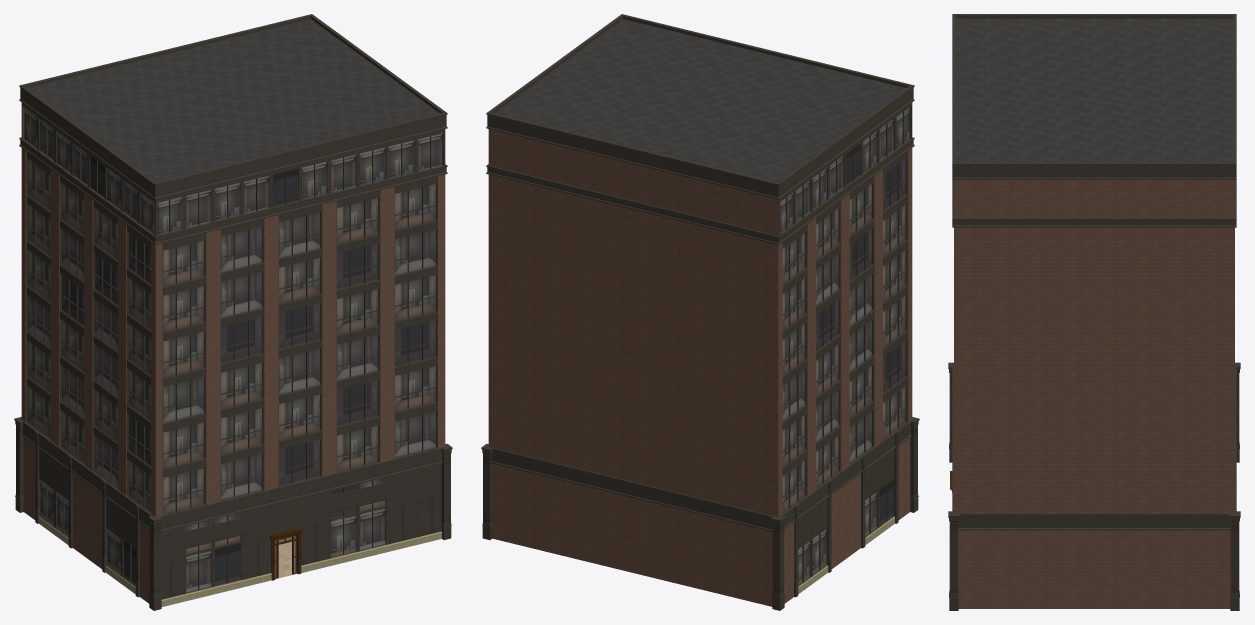
Rendered from Building_Large_2.glb.
3 renders of one model, left to right at view 1: azimuth 30°, elevation 25°; view 2: azimuth 150°, elevation 25°; view 3: azimuth 270°, elevation 25°, orthographic. The views are drawn at different scales.
Visible parts, largest first — view 1: Building_Large_2; view 2: Building_Large_2; view 3: Building_Large_2.
Part boxes in pixels (x1,y1,x2,y2): Building_Large_2: [14, 14, 452, 610]; Building_Large_2: [481, 14, 919, 610]; Building_Large_2: [948, 14, 1240, 610].
Bounding box in the file's own units: 20.64 × 28 × 16.64.
9 materials, 8 textured.
